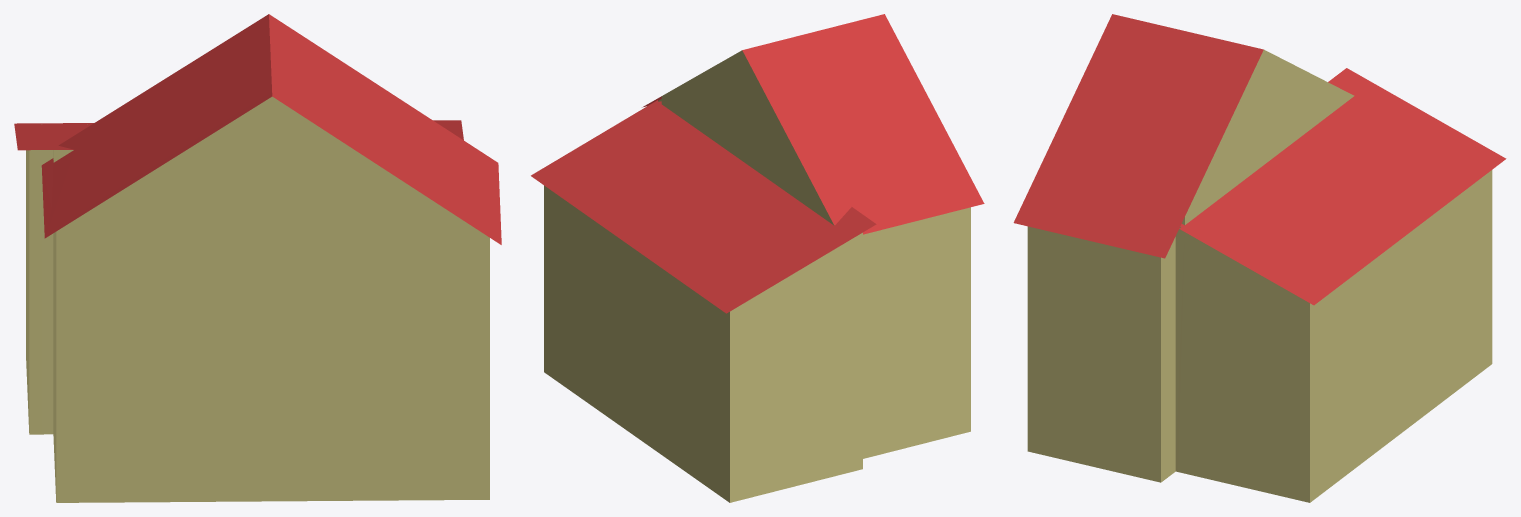
The picture shows the model from 3 angles, left to right: view 1: azimuth 30°, elevation 25°; view 2: azimuth 150°, elevation 25°; view 3: azimuth 270°, elevation 25°; orthographic projection. The views are drawn at different scales.
Bounding box in the file's own units: 11.74 × 11.89 × 9.68.
